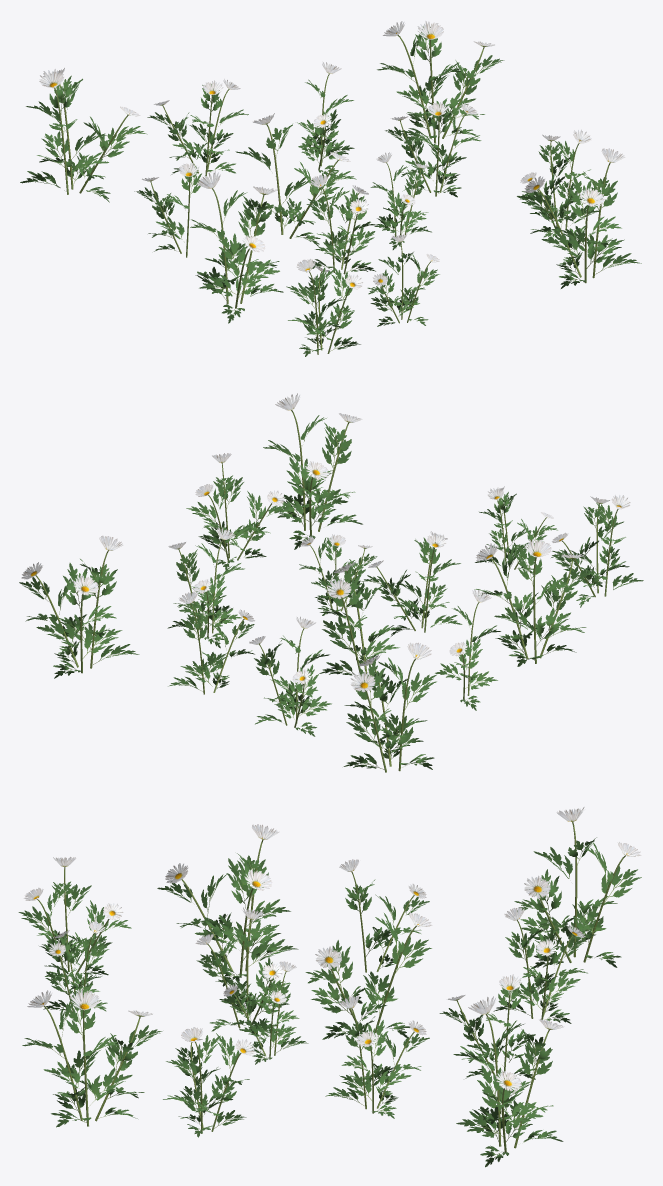
The model's file is SM_Plant_00.fbx.
3 views of the same model, one above another, from view 1: azimuth 30°, elevation 25°; view 2: azimuth 150°, elevation 25°; view 3: azimuth 270°, elevation 25° (orthographic). The views are drawn at different scales.
Visible parts, largest first — view 1: SM_Plant_00; view 2: SM_Plant_00; view 3: SM_Plant_00.
Part boxes in pixels (box(x1,y1,x2,y2)): SM_Plant_00: box(20, 21, 641, 356); SM_Plant_00: box(19, 393, 643, 772); SM_Plant_00: box(18, 807, 641, 1167).
Size of the model in its own units: 60.1 by 17.46 by 64.69.
